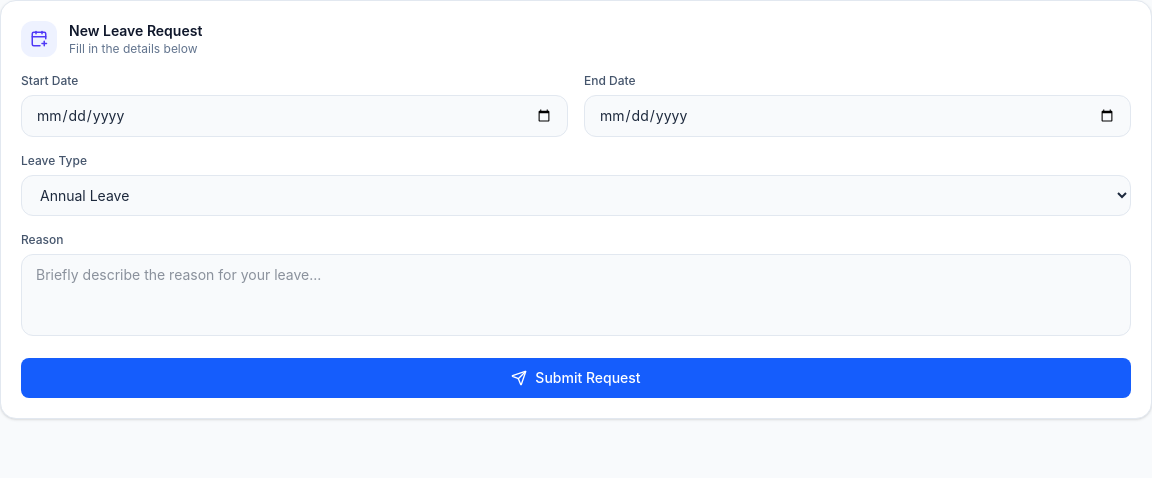
it: LeaveRequestForm validation › shows all required field errors on empty submit
This screenshot has width=1152, height=478.
Click the button "Submit Request" at x=576, y=378, box x1=21 y1=358 x2=1131 y2=398
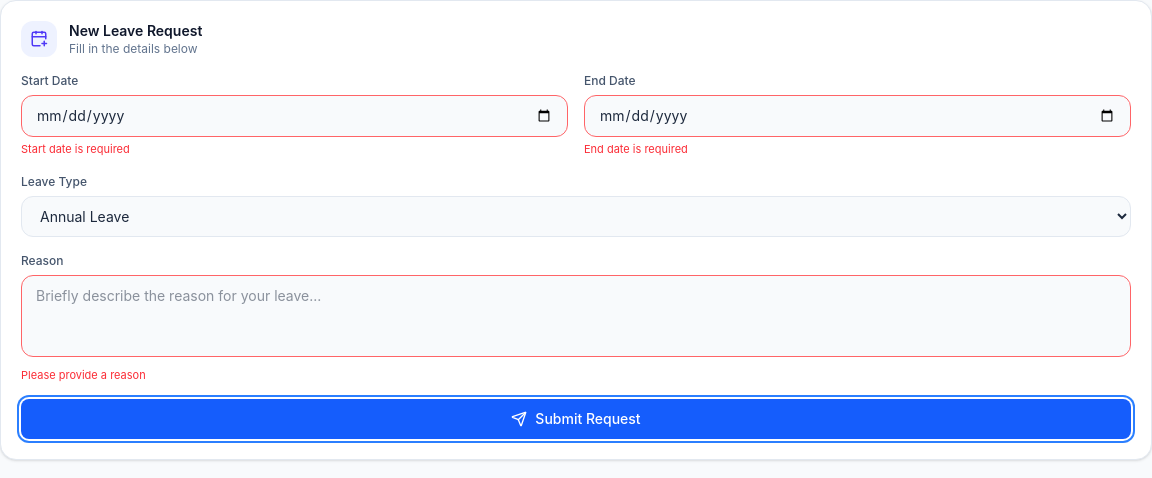
Check: the text "Start date is required" is shown, box x1=21 y1=142 x2=130 y2=156
Check: the text "End date is required" is shown, box x1=584 y1=142 x2=688 y2=156
Check: the text "Please provide a reason" is shown, box x1=21 y1=368 x2=146 y2=382
